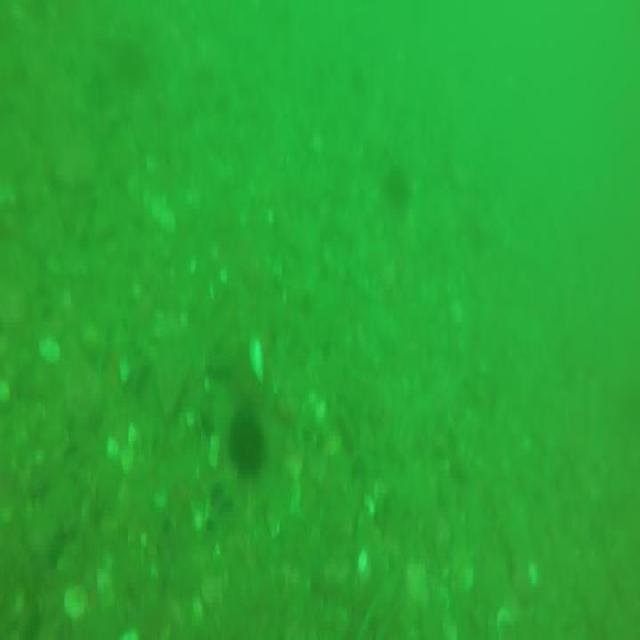echinus: (231, 411, 269, 476), (380, 164, 410, 201)
scallop: (249, 335, 263, 386), (66, 588, 89, 616), (39, 336, 61, 362)
